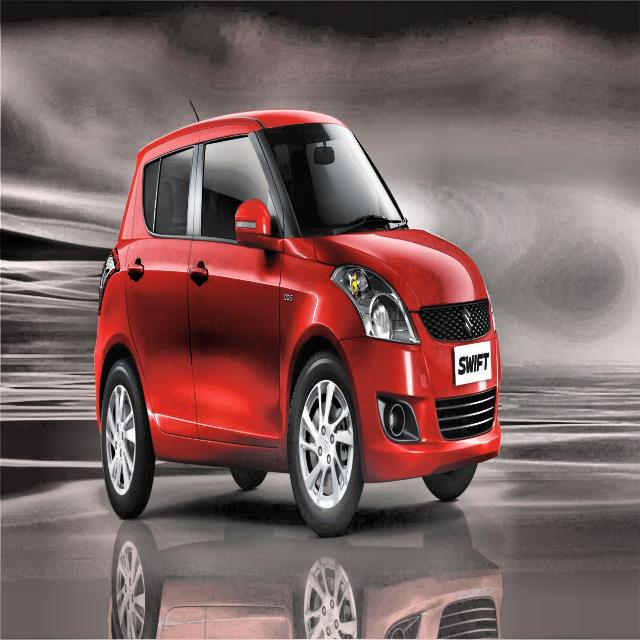Car: (96, 111, 500, 534)
